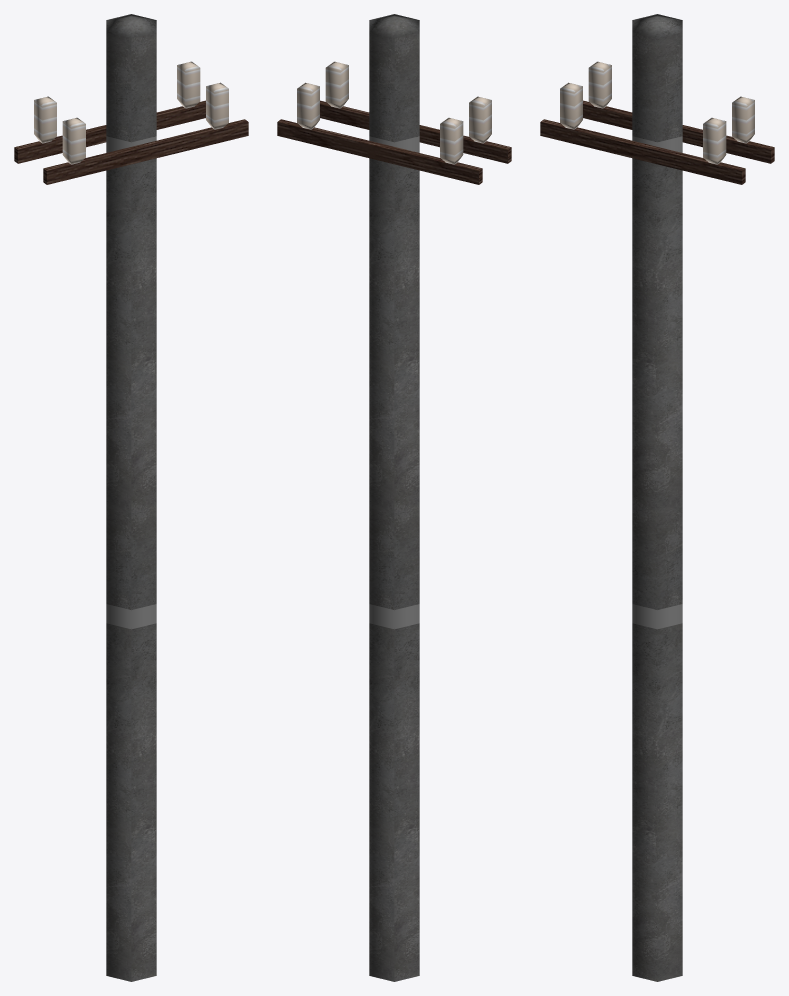
The model's file is ElectricPost01_Art.glb.
3 renders of one model, left to right at view 1: azimuth 30°, elevation 25°; view 2: azimuth 150°, elevation 25°; view 3: azimuth 330°, elevation 25°, orthographic.
Parts seen in each view (by area): view 1: ElectricPost01_Art; view 2: ElectricPost01_Art; view 3: ElectricPost01_Art.
Part boxes in pixels (x1,y1,x2,y2): ElectricPost01_Art: [14, 14, 248, 981]; ElectricPost01_Art: [277, 14, 511, 981]; ElectricPost01_Art: [540, 14, 774, 981].
Bounding box in the file's own units: 2.31 × 10.43 × 0.741.
Materials: 1 (1 with a texture image).
